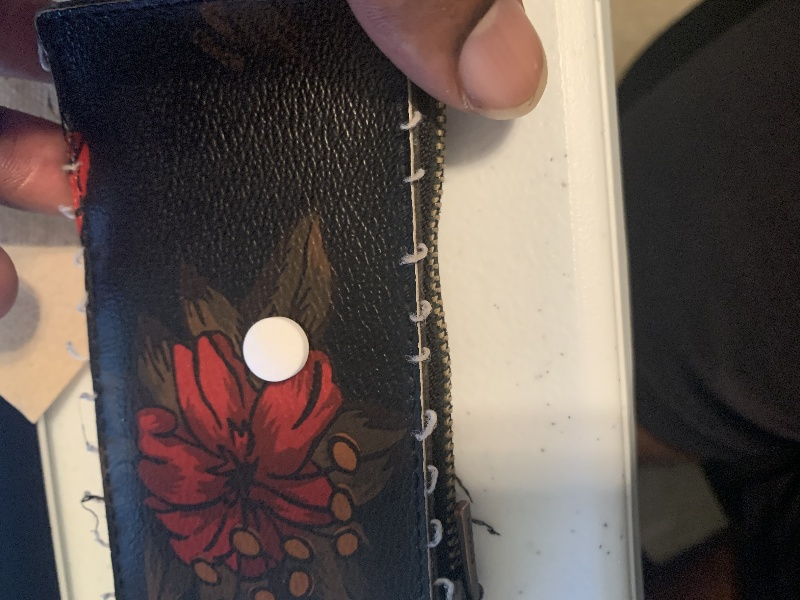Aspirin: (237, 314, 314, 387)
